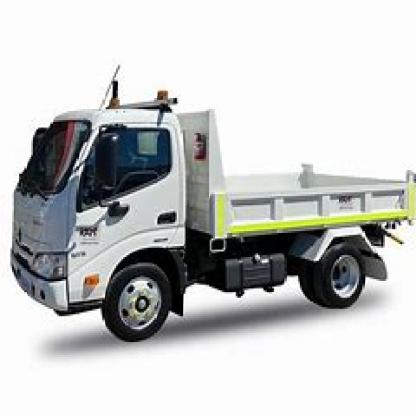dump_truck: (11, 72, 414, 340)
